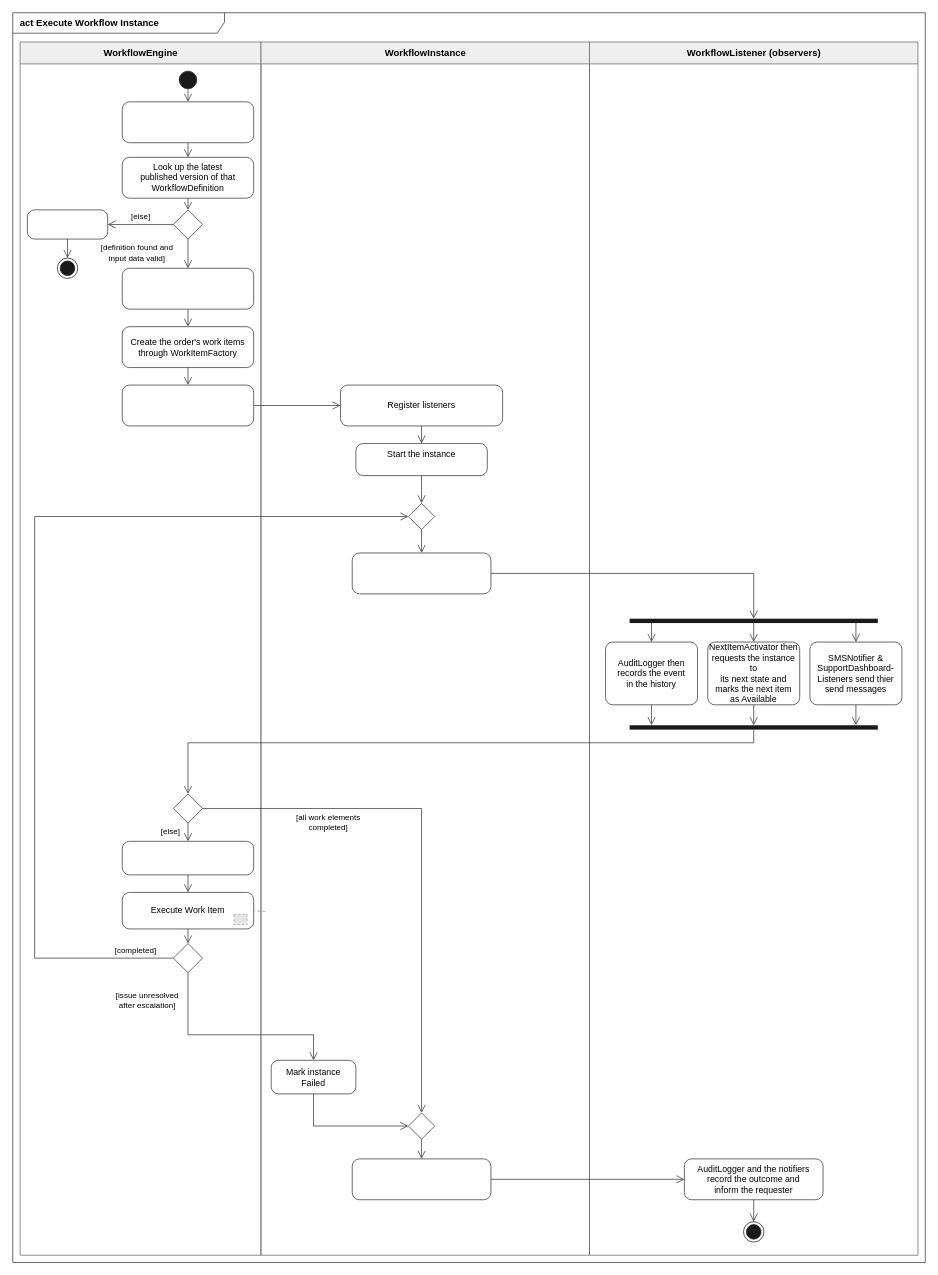
Image size: 938x1275. Some labels were removed from this diagram. Grey dashed boxes stand in for pictures. Each missing label, with the centre of its shape:
Add extra behaviour through decorators: the point at 188,405
Announce event to listeners instanceStarted or eventCompleted: the point at 421,573
Announce the final outcome to listeners (Delivered or Failed): the point at 421,1179
Create a new WorkflowInstance from that definition: the point at 188,288
Pick the next Available item: the point at 188,858
Receive request to start a workflow including its input data: the point at 188,122
Reject request: the point at 67,224
